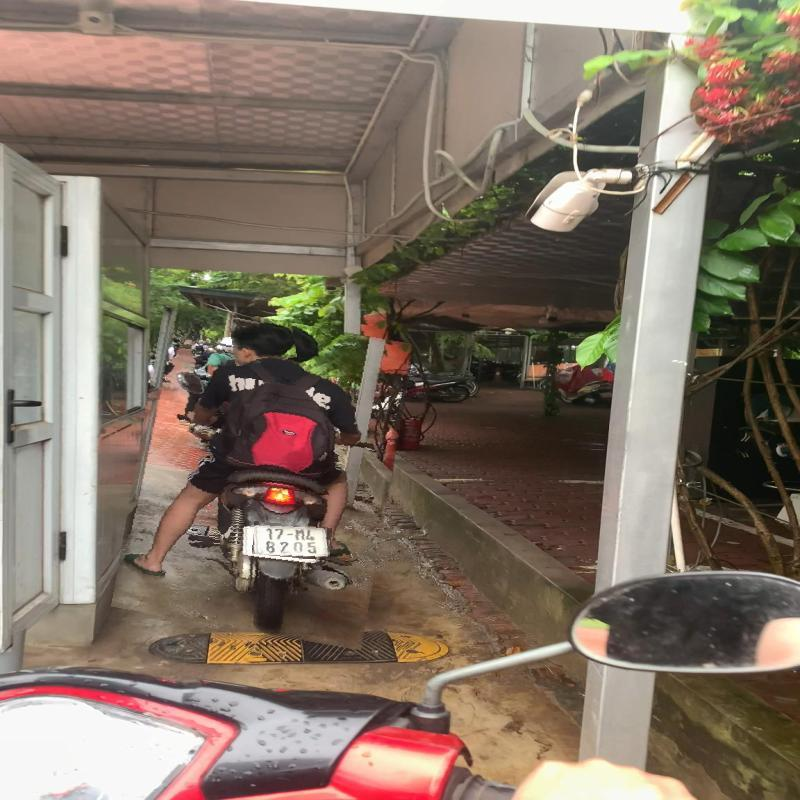licenseplate: (253, 522, 332, 558)
motorcyclist: (123, 310, 403, 641)
nohelmet: (232, 321, 297, 364)
